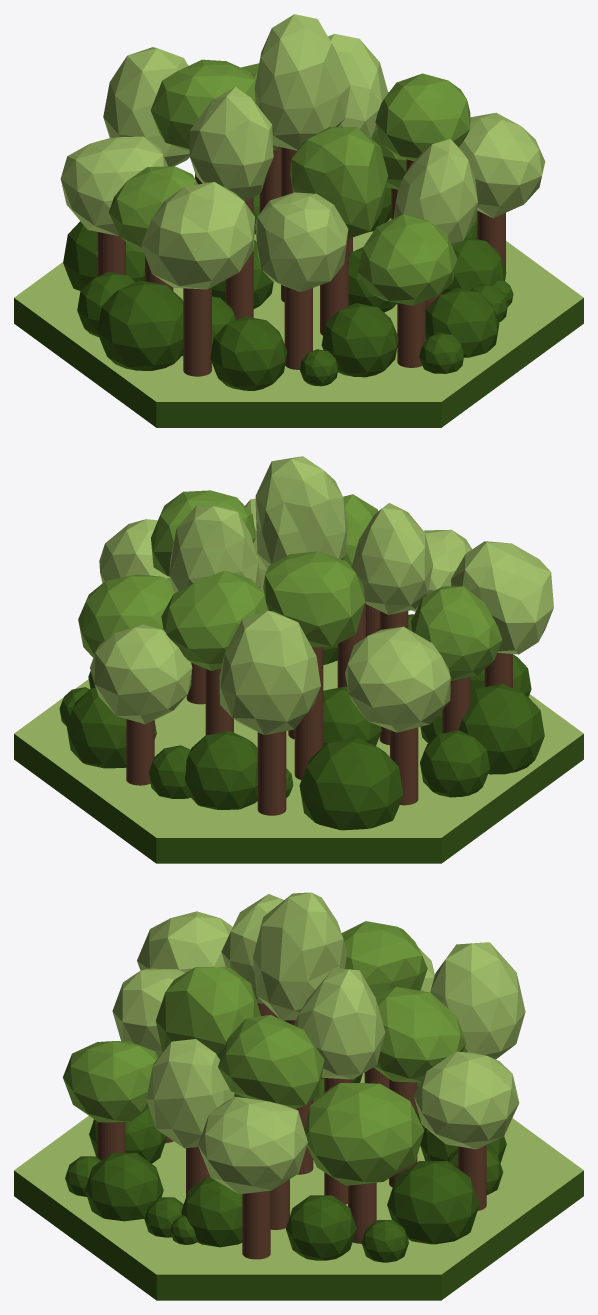
3 views of the same model, one above another, from view 1: azimuth 30°, elevation 25°; view 2: azimuth 150°, elevation 25°; view 3: azimuth 270°, elevation 25° (orthographic).
Visible parts, largest first — view 1: ForestTile; view 2: ForestTile; view 3: ForestTile.
Part boxes in pixels (left/top/right/bottom): ForestTile: left=14, top=14, right=583, bottom=427; ForestTile: left=14, top=456, right=583, bottom=863; ForestTile: left=14, top=892, right=583, bottom=1300.
Bounding box in the file's own units: 1.75 × 1.19 × 2.
1 material, 1 textured.
